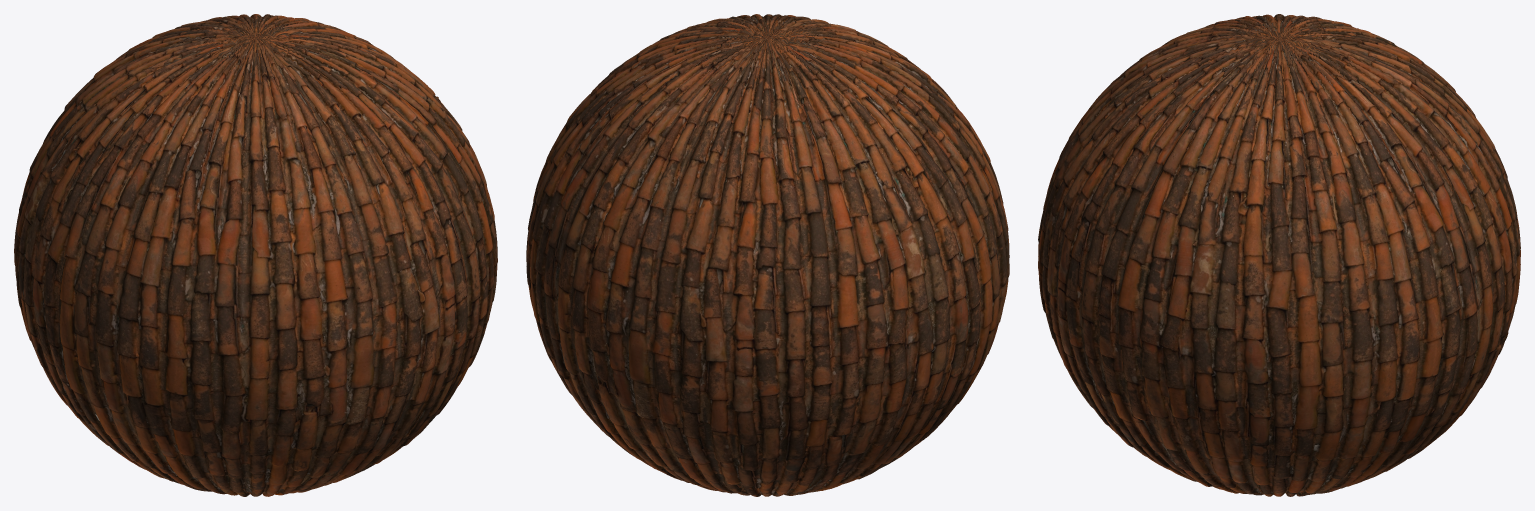
File: clay_roof_tiles_1k.gltf
3 views of the same model, side by side, from view 1: azimuth 30°, elevation 25°; view 2: azimuth 150°, elevation 25°; view 3: azimuth 270°, elevation 25° (orthographic).
Visible parts, largest first — view 1: sphere_gltf; view 2: sphere_gltf; view 3: sphere_gltf.
Boxes of the visible parts, box(x1,y1,x2,y2) form: sphere_gltf: box(14, 14, 497, 496); sphere_gltf: box(526, 14, 1009, 496); sphere_gltf: box(1038, 14, 1520, 496).
Size of the model in its own units: 4.04 by 4.03 by 4.03.
1 material, 1 textured.
